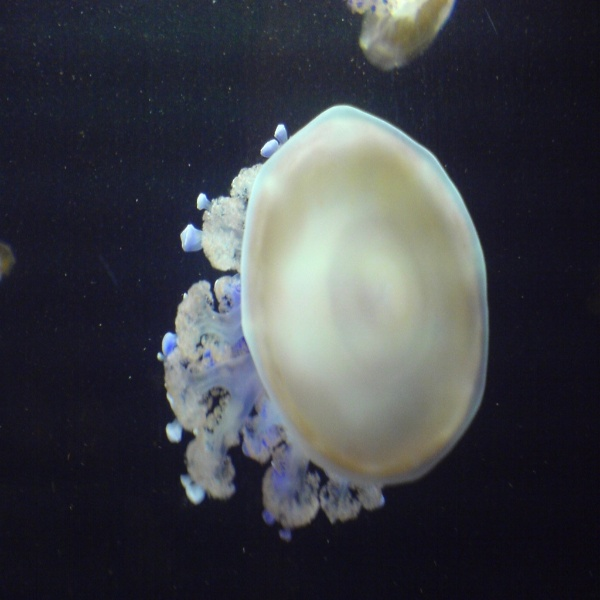Jellyfish: (154, 101, 489, 541), (347, 0, 459, 70)
